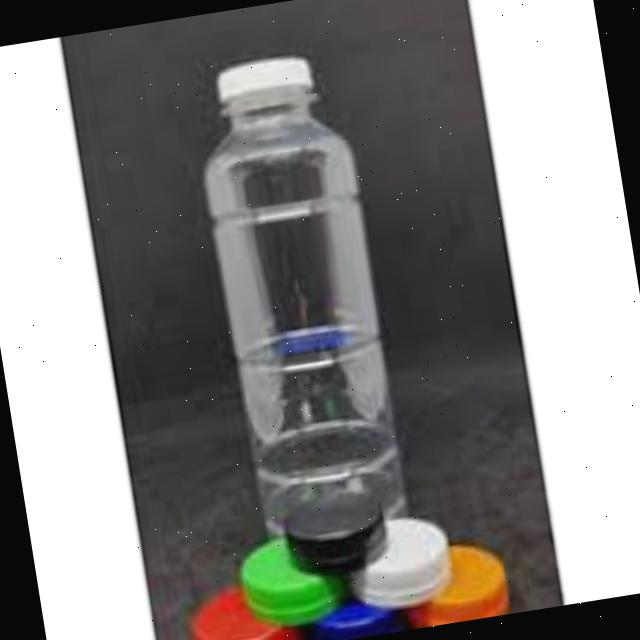trash: (180, 38, 422, 551)
